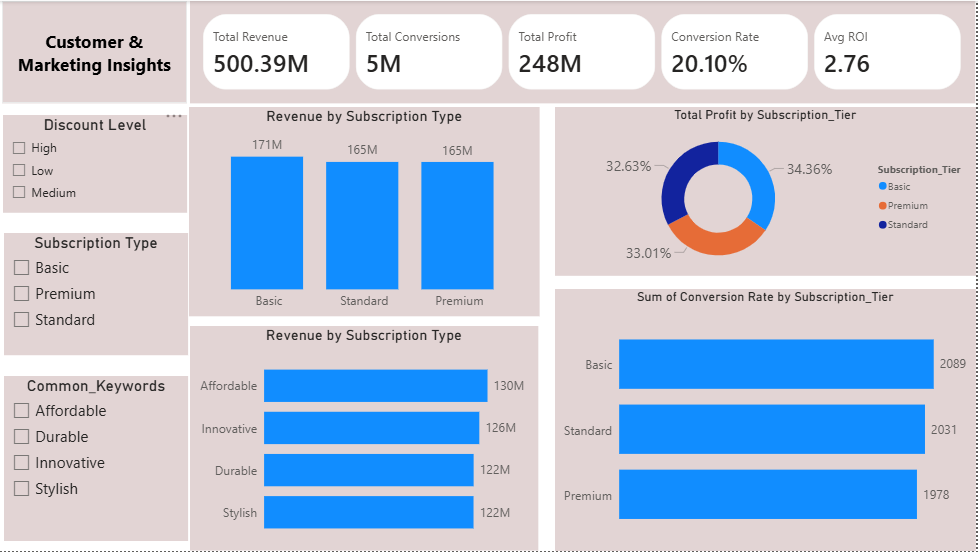

This screenshot's page, from the dashboard's own definition file:
{"tool":"powerbi","page":{"name":"Customer Insights","canvas":[1280,720],"ordinal":2},"visuals":[{"type":"shape","box":[5.8,0,241.9,133.9],"z":0},{"type":"cardVisual","fields":{"Data":["Measure.Total Revenue","Measure.Total Conversions","Measure.Total Profit","Measure.Conversion Rate","Measure.Avg ROI"]},"box":[251.8,0,1028.2,133.9],"z":1000},{"type":"columnChart","title":"Revenue by Subscription Type","fields":{"Category":["marketing_and_product_performance.Subscription_Tier"],"Y":["Measure.Total Revenue"]},"box":[250.4,138.4,458.8,273.7],"z":2000},{"type":"barChart","title":"Revenue by Subscription Type","fields":{"Y":["Measure.Total Revenue"],"Category":["marketing_and_product_performance.Common_Keywords"]},"box":[252,426.1,455.7,293.9],"z":3000},{"type":"barChart","fields":{"Category":["marketing_and_product_performance.Subscription_Tier"],"Y":["Sum(marketing_and_product_performance.Conversion Rate)"]},"box":[729.4,376.4,550.6,343.7],"z":5000},{"type":"donutChart","fields":{"Category":["marketing_and_product_performance.Subscription_Tier"],"Y":["Measure.Total Profit"]},"box":[729.4,138.4,550.6,220.9],"z":6000},{"type":"slicer","title":"Common_Keywords","fields":{"Values":["marketing_and_product_performance.Common_Keywords"]},"box":[7.8,491.5,241.1,216.2],"z":7000},{"type":"slicer","title":"Discount Level","fields":{"Values":["marketing_and_product_performance.Campaign Categories"]},"box":[6.2,149.3,241.1,127.5],"z":8000},{"type":"slicer","title":"Subscription Type","fields":{"Values":["marketing_and_product_performance.Subscription_Tier"]},"box":[7.8,304.1,241.1,160.2],"z":9000}]}

Visuals, with their boxes in screenshot pixels (x1, y1, x2, y2), scaled from the page's 1280x720 canvas onto the 978x552 screenshot:
shape: (4, 0, 189, 103)
cardVisual - Measure.Total Revenue x Measure.Total Conversions: (192, 0, 977, 103)
"Revenue by Subscription Type" columnChart: (191, 106, 542, 316)
"Revenue by Subscription Type" barChart: (193, 327, 541, 551)
barChart - marketing_and_product_performance.Subscription_Tier x Sum(marketing_and_product_performance.Conversion Rate): (557, 289, 977, 551)
donutChart - marketing_and_product_performance.Subscription_Tier x Measure.Total Profit: (557, 106, 977, 275)
"Common_Keywords" slicer: (6, 377, 190, 543)
"Discount Level" slicer: (5, 114, 189, 212)
"Subscription Type" slicer: (6, 233, 190, 356)
